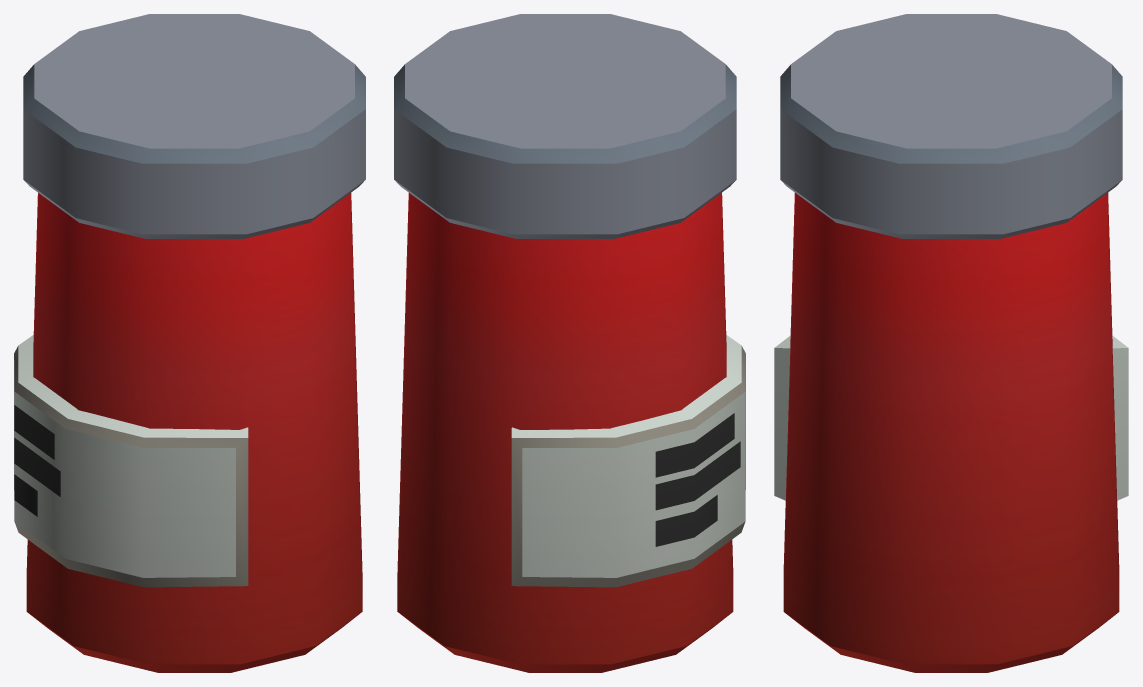
The model's file is Jar_2_A.glb.
The picture shows the model from 3 angles, left to right: view 1: azimuth 30°, elevation 25°; view 2: azimuth 150°, elevation 25°; view 3: azimuth 270°, elevation 25°; orthographic projection.
Visible parts, largest first — view 1: Jar_2_A; view 2: Jar_2_A; view 3: Jar_2_A.
Part boxes in pixels (x1,y1,x2,y2): Jar_2_A: (14,14,365,672); Jar_2_A: (394,14,745,672); Jar_2_A: (774,14,1128,672).
Bounding box in the file's own units: 0.1679 × 0.2831 × 0.1718.
Materials: 2 (2 with a texture image).
